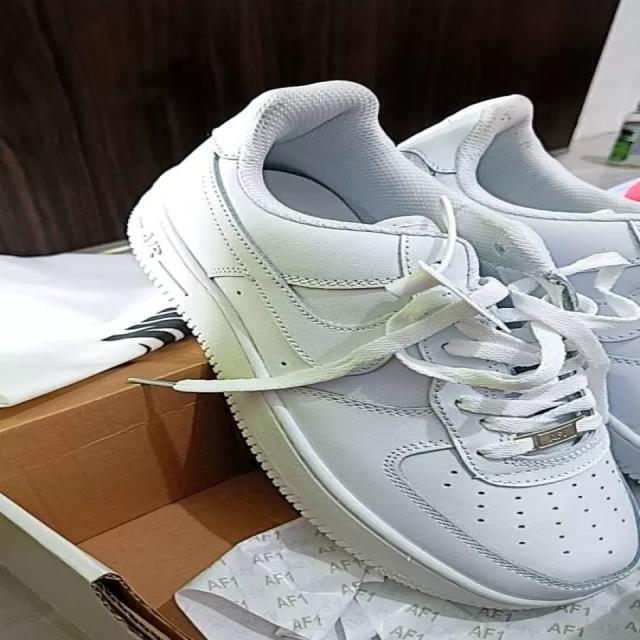nike fake air force: (128, 82, 640, 608)
